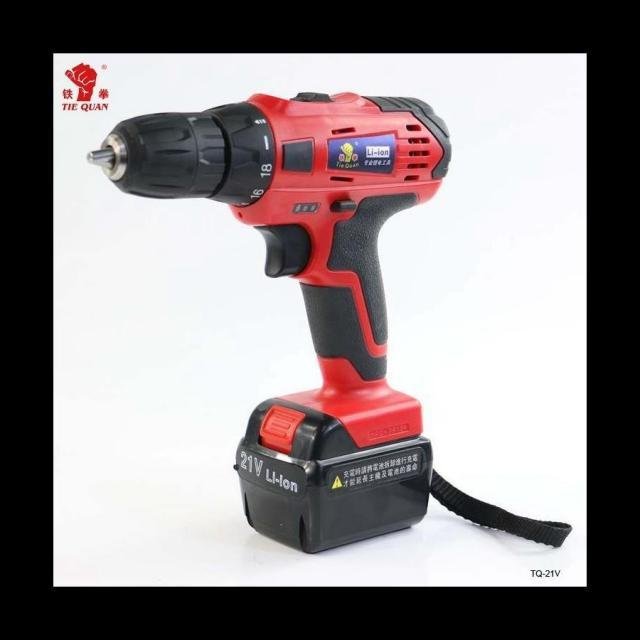drill: (87, 92, 453, 554)
